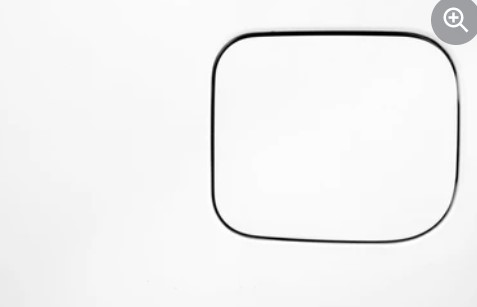closed: (203, 23, 467, 246)
